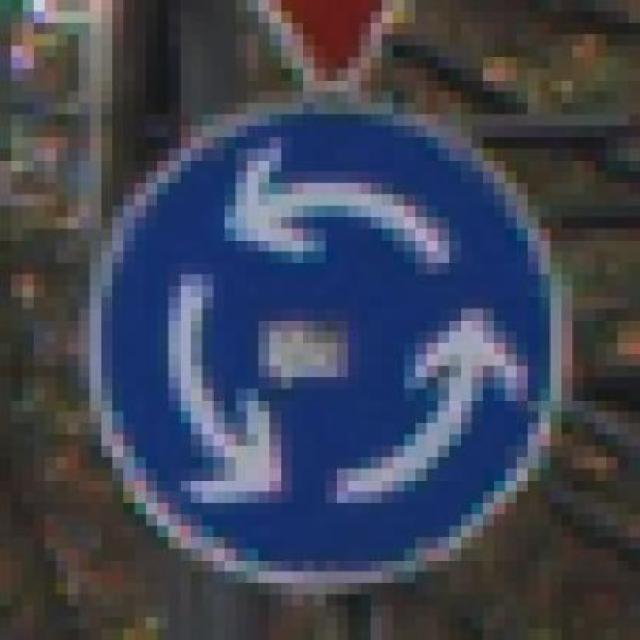Round-About: (78, 80, 618, 629)
